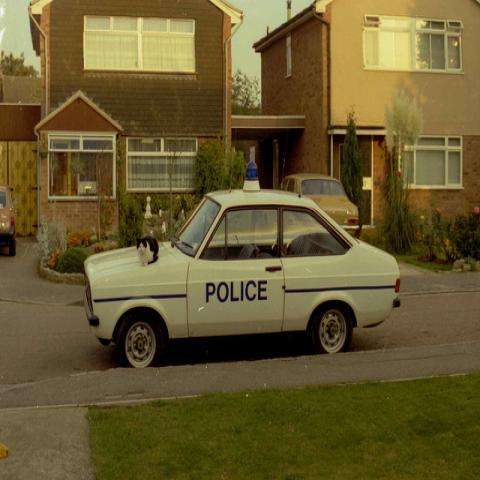car: (84, 194, 403, 376), (279, 174, 362, 235), (0, 184, 18, 257)
